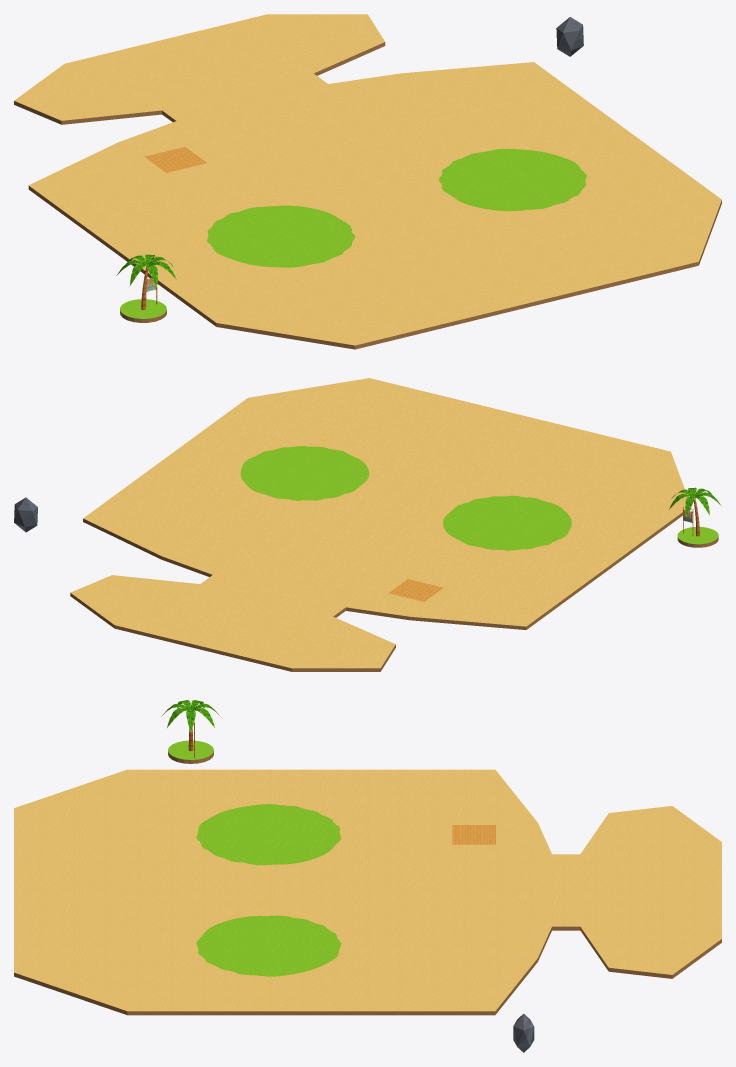
File: surface-30-DDMDPpU0.glb
3 views of the same model, one above another, from view 1: azimuth 30°, elevation 25°; view 2: azimuth 150°, elevation 25°; view 3: azimuth 270°, elevation 25° (orthographic). The views are drawn at different scales.
Visible parts, largest first — view 1: HI_Surface_30, FLC_Regions_30, HI_PalmDeck_0.003, HI_Palm.018, HI_SceneryIslet_0.019, HI_BasaltOutcrop.019; view 2: HI_Surface_30, FLC_Regions_30, HI_PalmDeck_0.003, HI_Palm.018, HI_SceneryIslet_0.019, HI_BasaltOutcrop.019; view 3: HI_Surface_30, FLC_Regions_30, HI_PalmDeck_0.003, HI_SceneryIslet_0.019, HI_Palm.018, HI_BasaltOutcrop.019.
Part boxes in pixels (box(x1,y1,x2,y2)): HI_Surface_30: box(14, 14, 721, 349); FLC_Regions_30: box(207, 148, 586, 267); HI_PalmDeck_0.003: box(144, 147, 206, 172); HI_Palm.018: box(116, 254, 176, 309); HI_SceneryIslet_0.019: box(120, 299, 166, 322); HI_BasaltOutcrop.019: box(556, 17, 583, 56); HI_Surface_30: box(70, 378, 691, 671); FLC_Regions_30: box(240, 446, 571, 550); HI_PalmDeck_0.003: box(389, 579, 443, 601); HI_Palm.018: box(669, 487, 721, 536); HI_SceneryIslet_0.019: box(677, 527, 718, 547); HI_BasaltOutcrop.019: box(14, 497, 37, 532); HI_Surface_30: box(14, 769, 721, 1015); FLC_Regions_30: box(196, 804, 341, 976); HI_PalmDeck_0.003: box(452, 825, 495, 844); HI_SceneryIslet_0.019: box(168, 740, 213, 763); HI_Palm.018: box(161, 700, 220, 750); HI_BasaltOutcrop.019: box(513, 1013, 534, 1052).
Bounding box in the file's own units: 52.33 × 5.15 × 52.
Materials: 8 (7 with a texture image).
